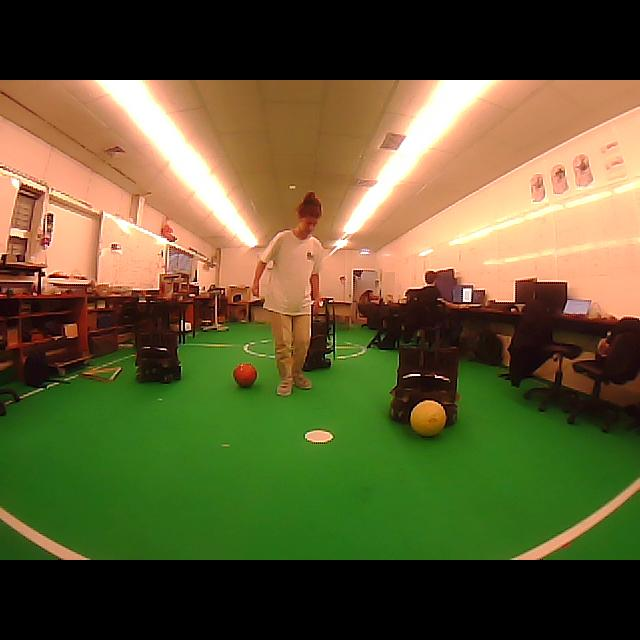ball: (411, 400, 446, 436), (234, 364, 258, 388)
robot: (390, 345, 459, 424), (136, 299, 185, 382), (304, 298, 336, 371)
